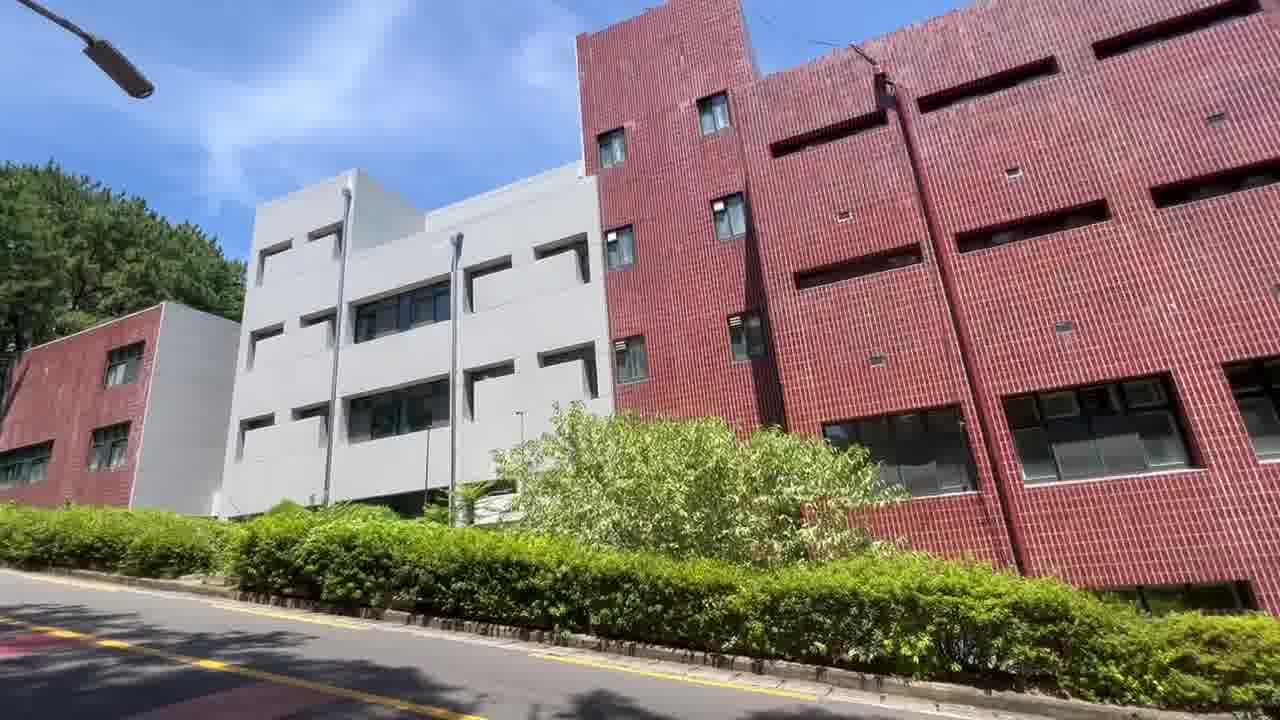medium: (44, 33, 1280, 524)
